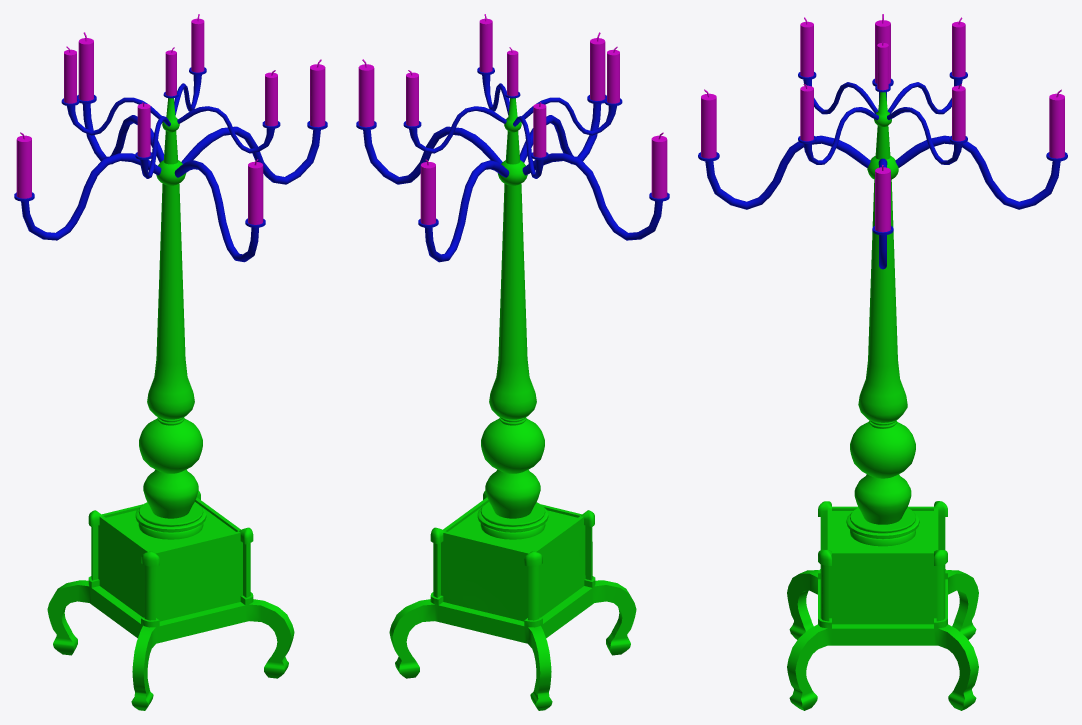
The model's file is Standing_Lighting_Fixture.FBX.
The picture shows the model from 3 angles, left to right: view 1: azimuth 30°, elevation 25°; view 2: azimuth 150°, elevation 25°; view 3: azimuth 270°, elevation 25°; orthographic projection. The views are drawn at different scales.
Visible parts, largest first — view 1: Box002; view 2: Box002; view 3: Box002.
Part boxes in pixels (x1,y1,x2,y2): Box002: (14,14,327,710); Box002: (356,14,669,710); Box002: (698,14,1067,710).
Size of the model in its own units: 194 by 369 by 194.
